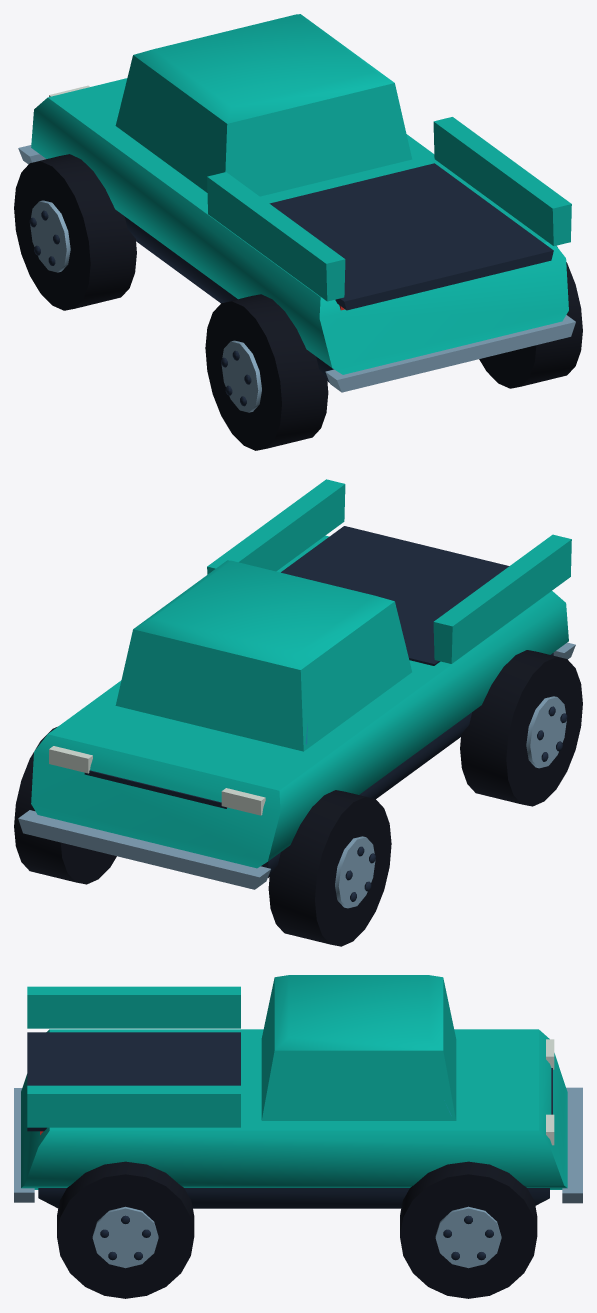
The model's file is PickupTruck.glb.
3 renders of one model, top to bottom at view 1: azimuth 30°, elevation 25°; view 2: azimuth 150°, elevation 25°; view 3: azimuth 270°, elevation 25°, orthographic. The views are drawn at different scales.
Parts seen in each view (by area): view 1: chassis, cab, bed_floor, -1_rear_tread, -1_front_tread, bed_wall_1, bed_wall_-1, rear_bumper, 1_rear_tread, -1_front_rim, -1_rear_rim, undertray; view 2: chassis, cab, bed_floor, -1_rear_tread, -1_front_tread, bed_wall_-1, front_bumper, bed_wall_1, 1_front_tread, -1_rear_rim, -1_front_rim, undertray (+3 smaller); view 3: chassis, cab, 1_front_tread, 1_rear_tread, bed_floor, bed_wall_-1, bed_wall_1, undertray, 1_front_rim, 1_rear_rim, front_bumper, rear_bumper.
Boxes of the visible parts, box(x1,y1,x2,y2) form: chassis: box(31, 78, 568, 374); cab: box(115, 14, 412, 196); bed_floor: box(269, 163, 553, 310); -1_rear_tread: box(205, 294, 328, 450); -1_front_tread: box(14, 154, 136, 310); bed_wall_1: box(433, 117, 571, 246); bed_wall_-1: box(207, 172, 345, 301); rear_bumper: box(325, 315, 575, 392); 1_rear_tread: box(479, 247, 582, 388); -1_front_rim: box(30, 200, 70, 272); -1_rear_rim: box(221, 340, 261, 412); undertray: box(125, 217, 333, 382); chassis: box(31, 535, 568, 868); cab: box(115, 560, 411, 751); bed_floor: box(281, 526, 509, 665); -1_rear_tread: box(460, 650, 582, 806); -1_front_tread: box(268, 790, 391, 946); bed_wall_-1: box(433, 534, 571, 663); front_bumper: box(18, 810, 270, 889); bed_wall_1: box(207, 479, 345, 574); 1_front_tread: box(14, 727, 116, 884); -1_rear_rim: box(526, 696, 566, 768); -1_front_rim: box(335, 836, 375, 908); undertray: box(261, 653, 553, 877); chassis: box(21, 1029, 567, 1189); cab: box(261, 975, 456, 1120); 1_front_tread: box(400, 1161, 537, 1298); 1_rear_tread: box(57, 1161, 194, 1298); bed_floor: box(27, 1032, 240, 1131); bed_wall_-1: box(27, 986, 240, 1028); bed_wall_1: box(27, 1085, 240, 1127); undertray: box(38, 1188, 549, 1208); 1_front_rim: box(435, 1206, 501, 1268); 1_rear_rim: box(92, 1206, 158, 1268); front_bumper: box(562, 1087, 582, 1203); rear_bumper: box(14, 1088, 34, 1202).
Bounding box in the file's own units: 3.19 × 2.4 × 5.46.
